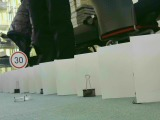speed_30: (9, 51, 27, 69)
